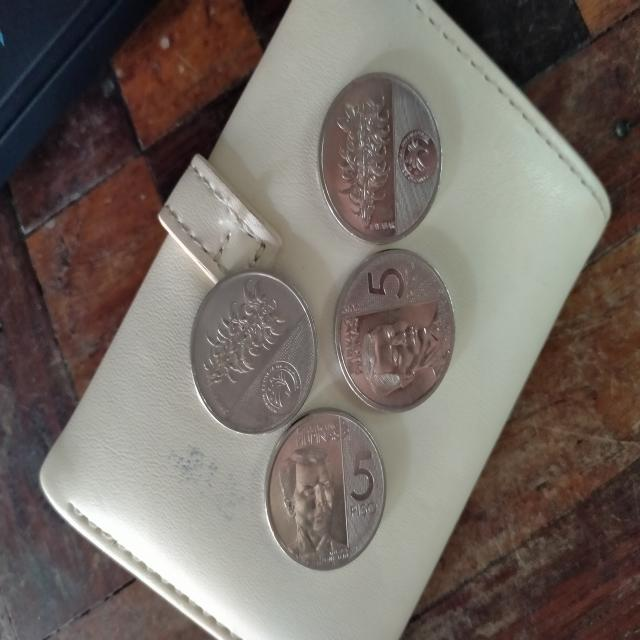5_New_Back: (324, 91, 413, 243), (191, 278, 290, 394)
5_New_Front: (338, 442, 384, 528), (360, 248, 420, 310)
